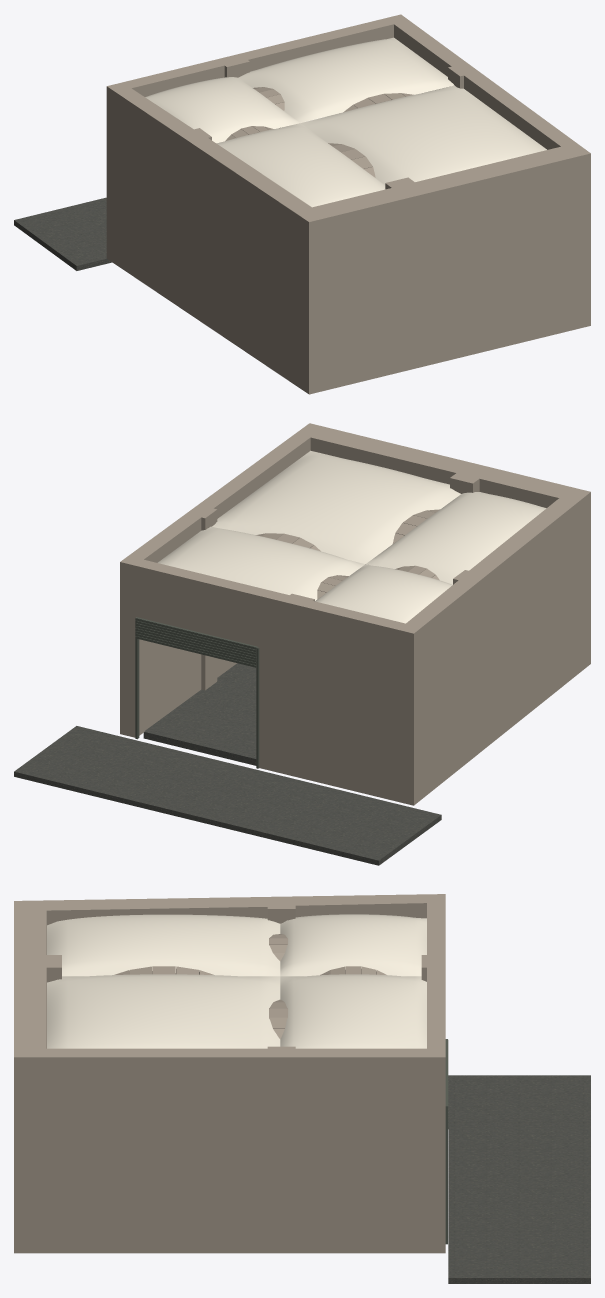
3 views of the same model, one above another, from view 1: azimuth 30°, elevation 25°; view 2: azimuth 150°, elevation 25°; view 3: azimuth 270°, elevation 25° (orthographic). The views are drawn at different scales.
Visible parts, largest first — view 1: Muratura perimetrale, Muratura perimetrale.001, Volta ribassata indicativa.003, Volta ribassata indicativa.002, Volta ribassata indicativa.001, Volta ribassata indicativa, Selciato del vicolo; view 2: Muratura perimetrale, Muratura perimetrale.001, Selciato del vicolo, Volta ribassata indicativa.003, Volta ribassata indicativa.001, Volta ribassata indicativa.002, Battuto di cemento, Volta ribassata indicativa; view 3: Muratura perimetrale, Muratura perimetrale.001, Selciato del vicolo, Volta ribassata indicativa.003, Volta ribassata indicativa.001, Volta ribassata indicativa.002, Volta ribassata indicativa.
Part boxes in pixels (x1,y1,x2,y2): Muratura perimetrale: (106, 137, 590, 394); Muratura perimetrale.001: (106, 14, 590, 273); Volta ribassata indicativa.003: (301, 85, 546, 184); Volta ribassata indicativa.002: (238, 37, 454, 122); Volta ribassata indicativa.001: (217, 123, 385, 207); Volta ribassata indicativa: (145, 77, 300, 143); Selciato del vicolo: (14, 197, 111, 270); Muratura perimetrale: (120, 543, 590, 805); Muratura perimetrale.001: (120, 423, 590, 684); Selciato del vicolo: (14, 726, 441, 865); Volta ribassata indicativa.003: (212, 450, 460, 563); Volta ribassata indicativa.001: (366, 492, 546, 584); Volta ribassata indicativa.002: (157, 526, 364, 600); Battuto di cemento: (143, 663, 256, 765); Volta ribassata indicativa: (315, 564, 452, 623); Muratura perimetrale: (14, 1026, 445, 1253); Muratura perimetrale.001: (14, 894, 445, 1115); Selciato del vicolo: (448, 1075, 590, 1283); Volta ribassata indicativa.003: (47, 974, 280, 1048); Volta ribassata indicativa.001: (47, 914, 280, 976); Volta ribassata indicativa.002: (280, 974, 426, 1048); Volta ribassata indicativa: (280, 914, 426, 976).
Bounding box in the file's own units: 9.65 × 4.56 × 11.61.
6 materials, 2 textured.
